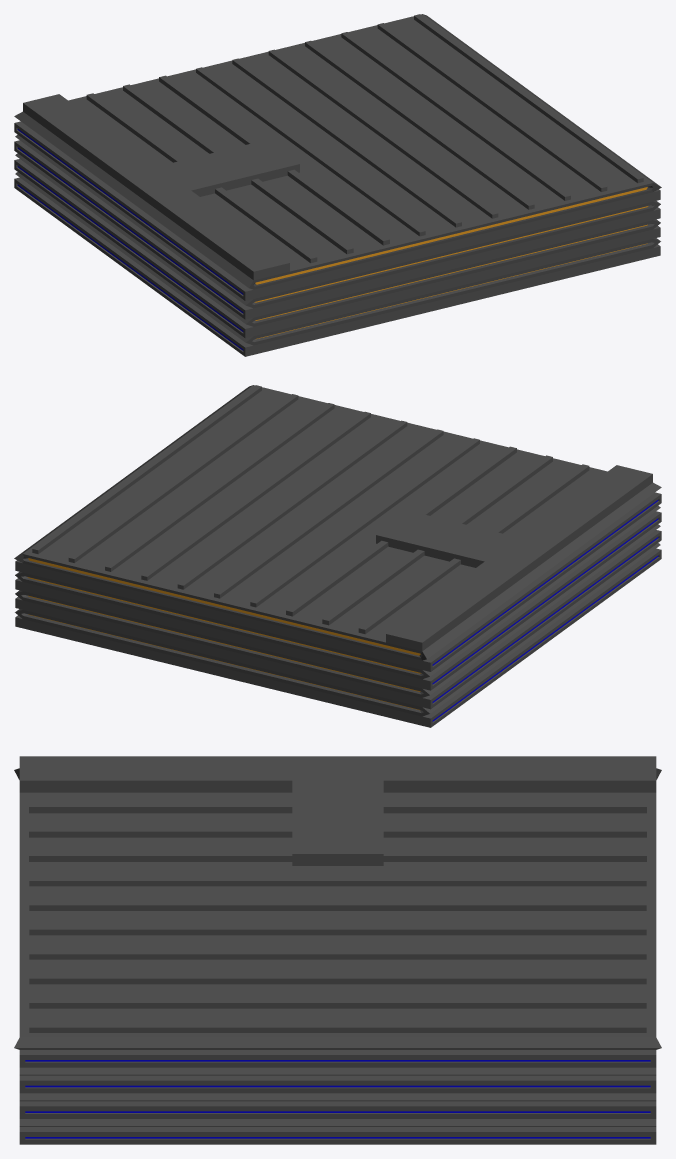
The model's file is Edge Server.fbx.
3 views of the same model, one above another, from view 1: azimuth 30°, elevation 25°; view 2: azimuth 150°, elevation 25°; view 3: azimuth 270°, elevation 25° (orthographic). The views are drawn at different scales.
Parts seen in each view (by area): view 1: Cube; view 2: Cube; view 3: Cube.
Part boxes in pixels (bbox=[...]): Cube: bbox=[14, 14, 661, 356]; Cube: bbox=[14, 385, 661, 727]; Cube: bbox=[14, 756, 661, 1144].
Size of the model in its own units: 745 by 142 by 729.
